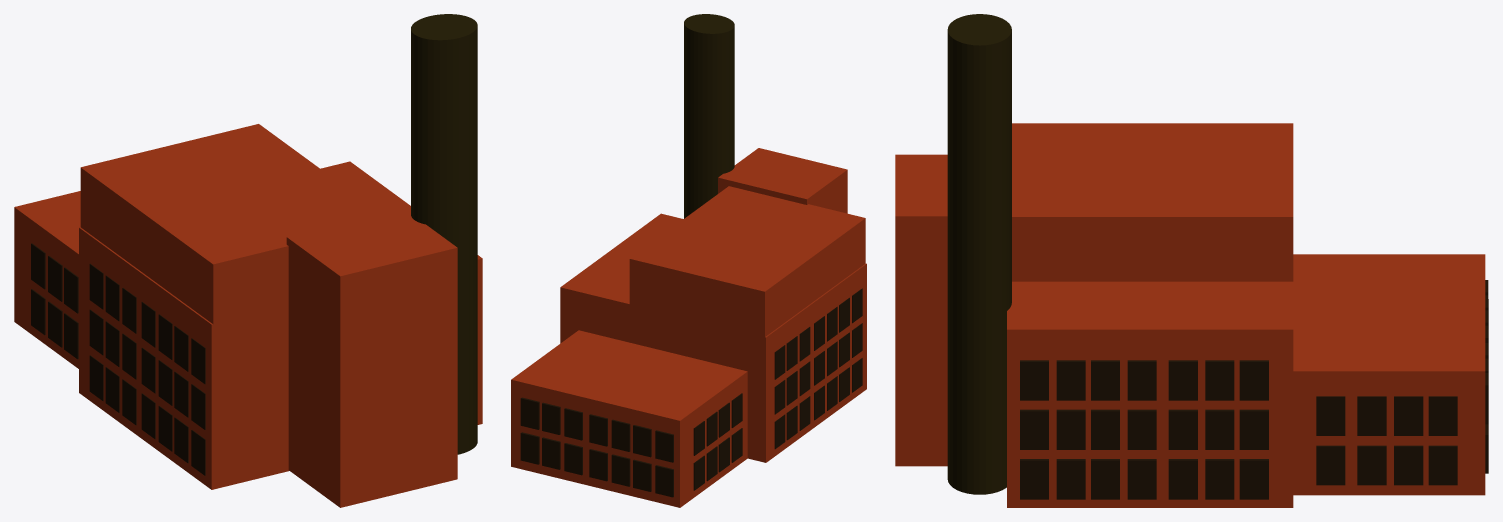
Rendered from factory.fbx.
The picture shows the model from 3 angles, left to right: view 1: azimuth 30°, elevation 25°; view 2: azimuth 150°, elevation 25°; view 3: azimuth 270°, elevation 25°; orthographic projection. The views are drawn at different scales.
Visible parts, largest first — view 1: Cube.002, Cube.003, Cube, Cylinder, Cube.001, Cube.050, Cube.057, Cube.051, Cube.052, Cube.053, Cube.056, Cube.020 (+20 smaller); view 2: Cube.003, Cube.001, Cube, Cylinder, Cube.002, Cube.067, Cube.066, Cube.069, Cube.068, Cube.063, Cube.065, Cube.075 (+7 smaller); view 3: Cube.003, Cube, Cube.001, Cylinder, Cube.002, Cube.007, Cube.009, Cube.010, Cube.012, Cube.016, Cube.018, Cube.022 (+22 smaller).
Boxes of the visible parts, <box> form: Cube.002: <box>286,208,457,507</box>; Cube.003: <box>80,124,381,327</box>; Cube: <box>79,161,482,489</box>; Cylinder: <box>411,14,477,454</box>; Cube.001: <box>14,191,80,368</box>; Cube.050: <box>64,267,78,313</box>; Cube.057: <box>48,301,62,347</box>; Cube.051: <box>64,313,78,359</box>; Cube.052: <box>31,289,45,335</box>; Cube.053: <box>31,243,45,289</box>; Cube.056: <box>48,256,62,301</box>; Cube.020: <box>122,333,136,379</box>; Cube.003: <box>629,186,865,336</box>; Cube.001: <box>511,330,747,507</box>; Cube: <box>560,213,866,462</box>; Cylinder: <box>684,14,734,218</box>; Cube.002: <box>718,148,847,213</box>; Cube.067: <box>520,432,539,464</box>; Cube.066: <box>520,397,539,429</box>; Cube.069: <box>611,419,630,451</box>; Cube.068: <box>611,454,630,486</box>; Cube.063: <box>564,408,582,440</box>; Cube.065: <box>542,437,560,469</box>; Cube.075: <box>655,465,673,497</box>; Cube.003: <box>1012,123,1293,281</box>; Cube: <box>1007,281,1293,507</box>; Cube.001: <box>1293,254,1485,495</box>; Cylinder: <box>947,14,1011,494</box>; Cube.002: <box>895,154,947,466</box>; Cube.007: <box>1056,360,1085,400</box>; Cube.009: <box>1056,459,1085,499</box>; Cube.010: <box>1127,459,1156,499</box>; Cube.012: <box>1127,360,1156,400</box>; Cube.016: <box>1239,459,1268,499</box>; Cube.018: <box>1239,360,1268,400</box>; Cube.022: <box>1205,459,1234,499</box>.
Size of the model in its own units: 6831 by 9899 by 11798.
